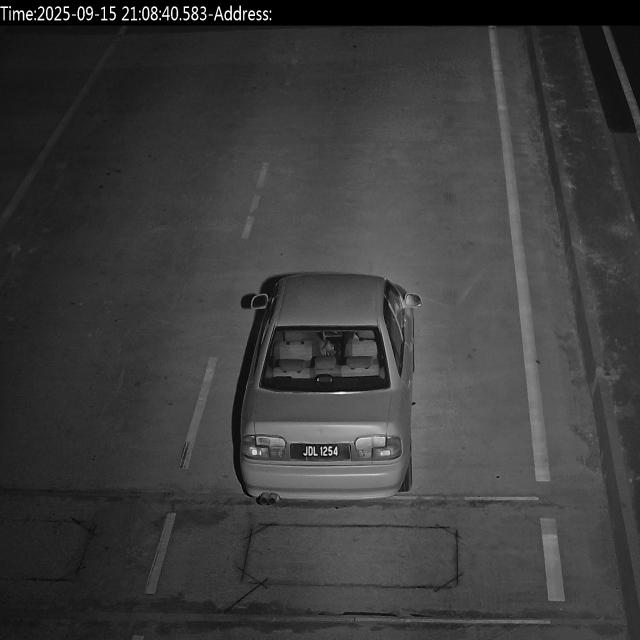back: (293, 443, 350, 458)
